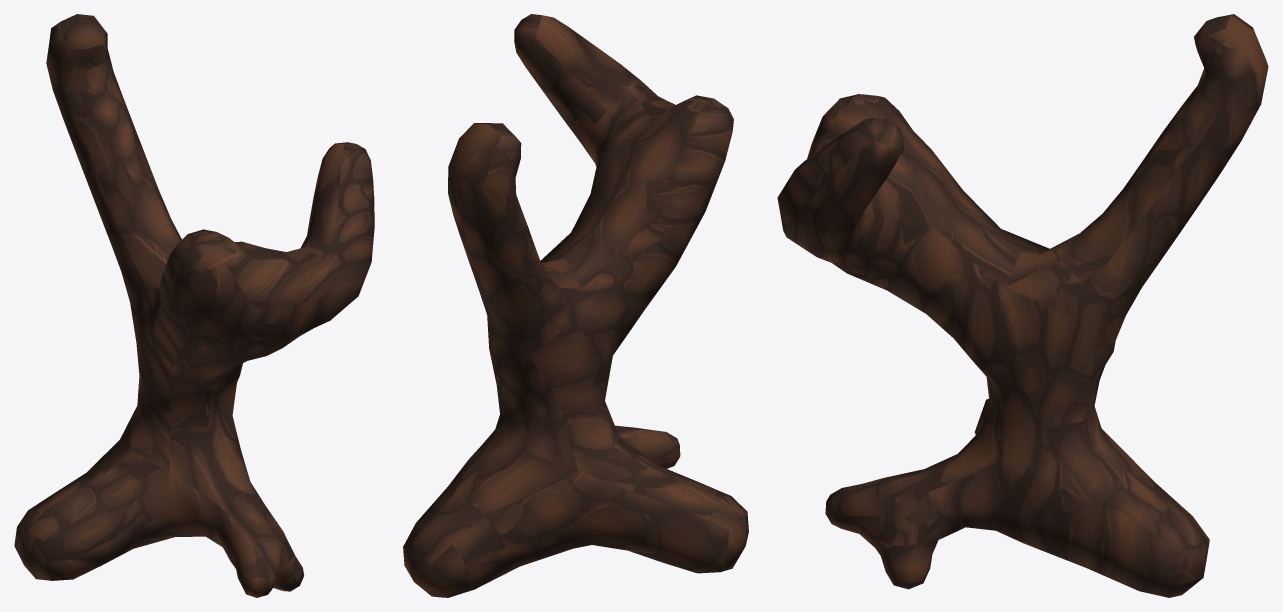
File: Plant _TreeMain.fbx
The picture shows the model from 3 angles, left to right: view 1: azimuth 30°, elevation 25°; view 2: azimuth 150°, elevation 25°; view 3: azimuth 270°, elevation 25°; orthographic projection. The views are drawn at different scales.
Visible parts, largest first — view 1: Vert; view 2: Vert; view 3: Vert.
Part boxes in pixels (x1,y1,x2,y2): Vert: (14, 14, 374, 597); Vert: (403, 14, 748, 597); Vert: (777, 14, 1268, 597).
Size of the model in its own units: 339 by 561 by 463.
